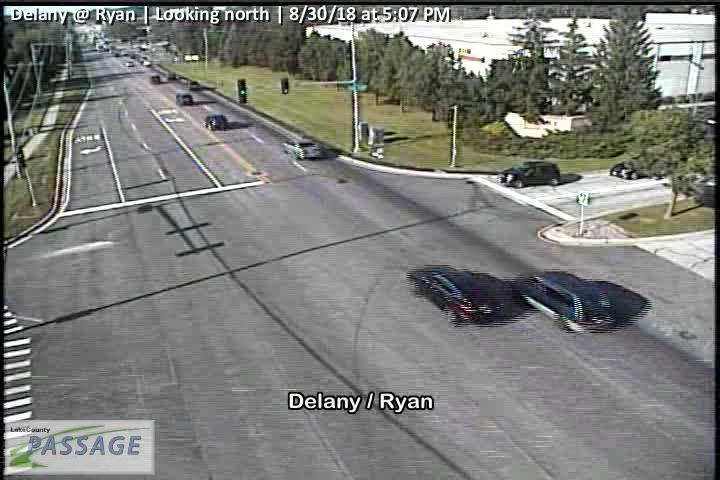SUV: (512, 271, 617, 333), (497, 161, 560, 187), (175, 93, 193, 105)
Sedan: (408, 265, 505, 325), (282, 138, 322, 161), (203, 114, 227, 131)
